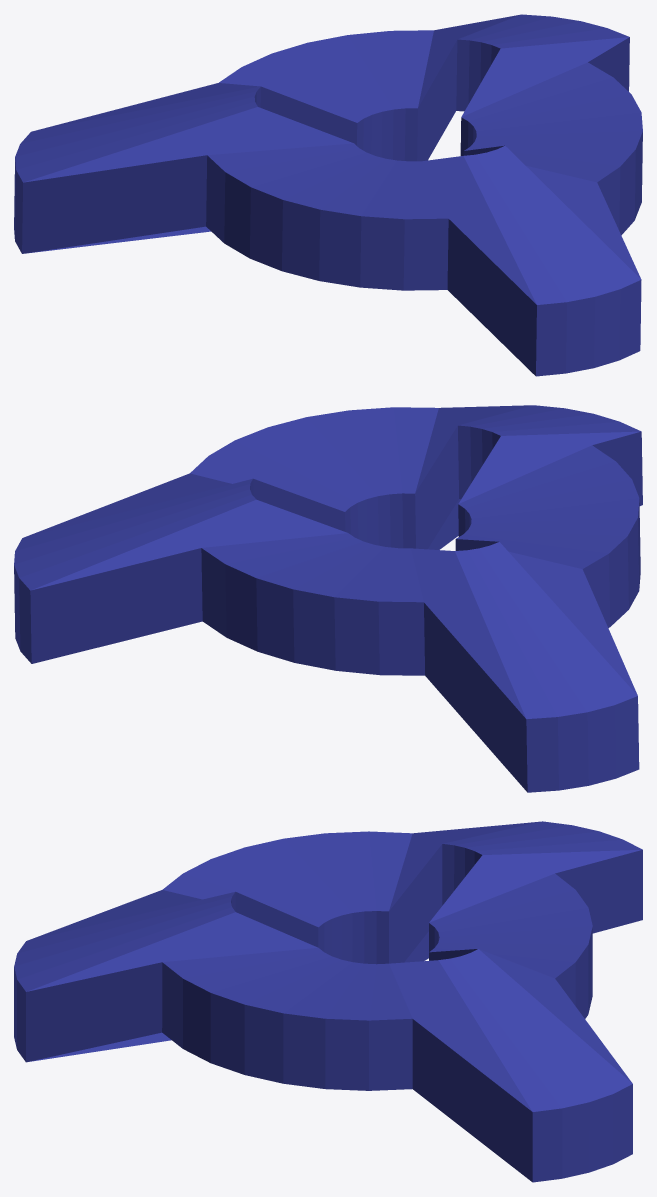
File: NukeSetter.fbx
3 renders of one model, top to bottom at view 1: azimuth 30°, elevation 25°; view 2: azimuth 150°, elevation 25°; view 3: azimuth 270°, elevation 25°, orthographic. The views are drawn at different scales.
Parts seen in each view (by area): view 1: Cylinder.001; view 2: Cylinder.001; view 3: Cylinder.001.
Part boxes in pixels (x1,y1,x2,y2): Cylinder.001: (14, 14, 642, 376); Cylinder.001: (14, 405, 642, 792); Cylinder.001: (14, 821, 642, 1182).
Size of the model in its own units: 1540 by 343 by 1394.
